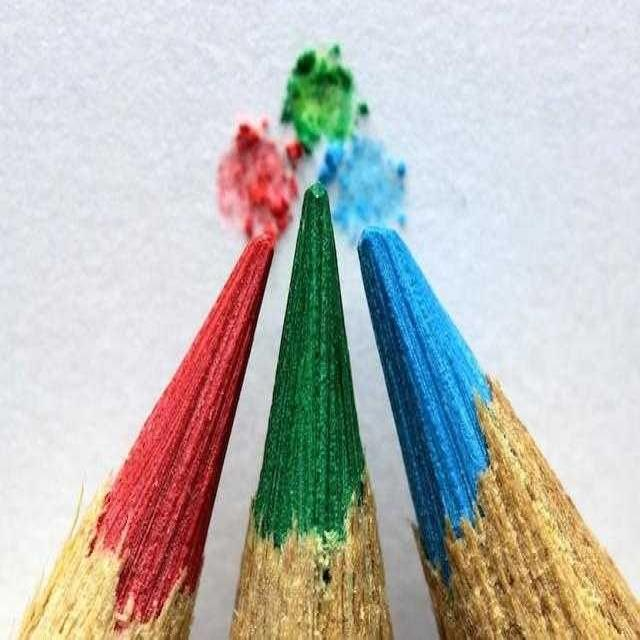pencil: (361, 183, 639, 639), (212, 161, 426, 639)
